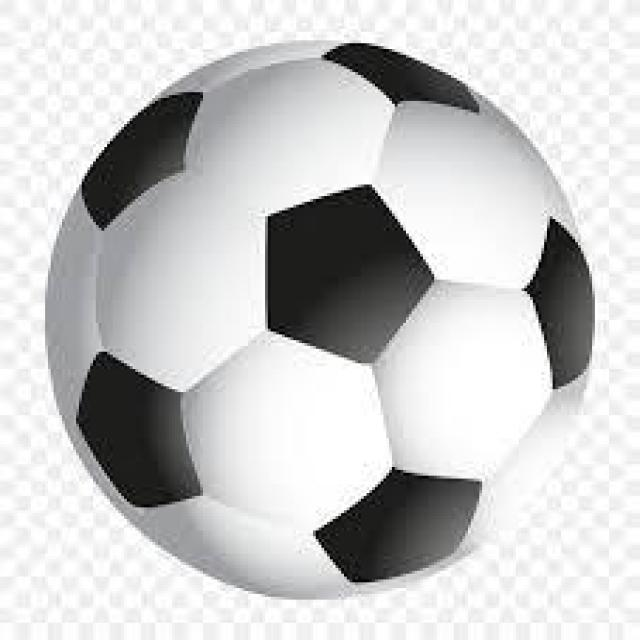Soccer Ball: (48, 43, 606, 594)
